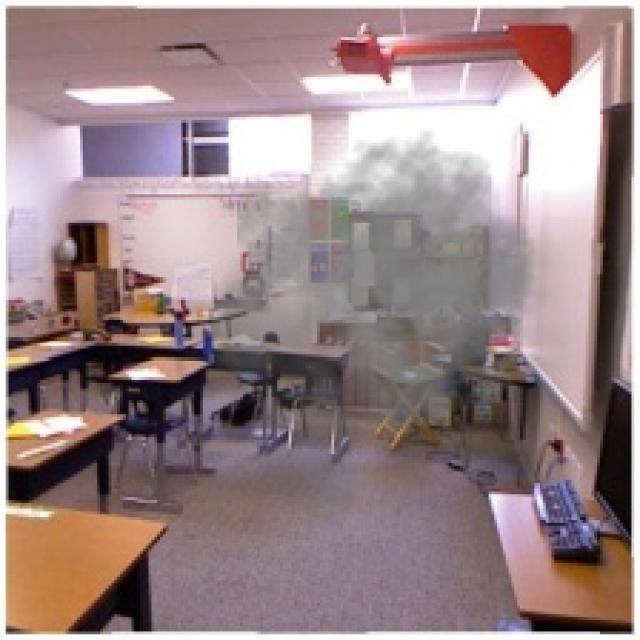smoke: (191, 129, 563, 534)
